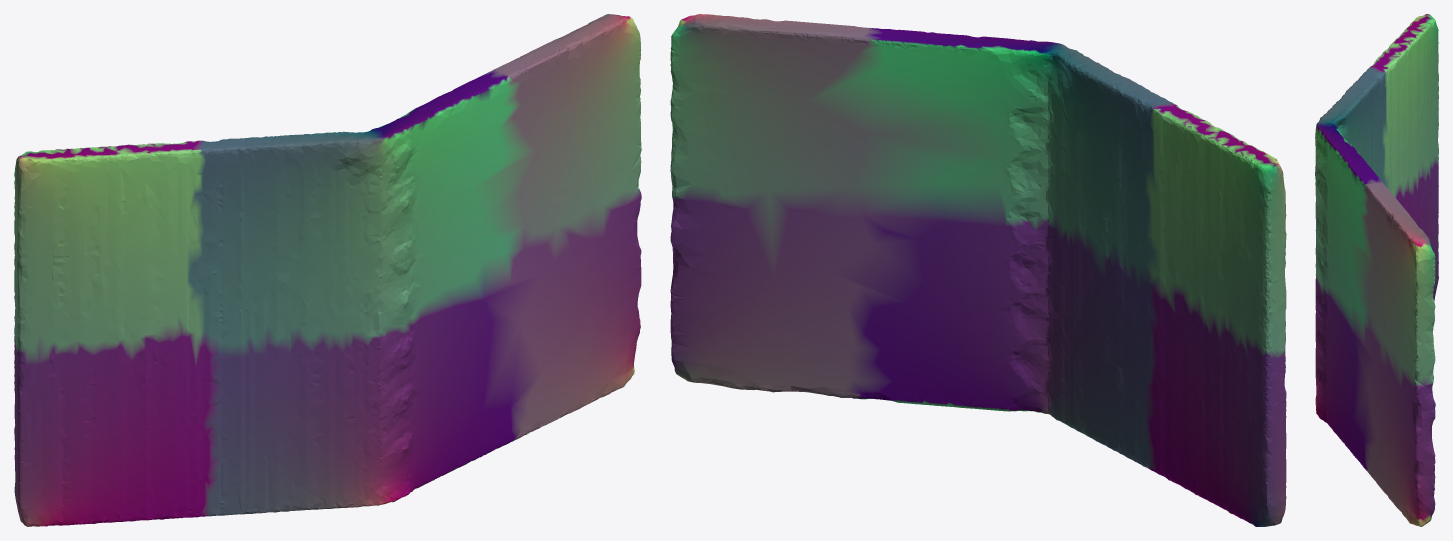
The model's file is paper-11.off.obj.
3 views of the same model, side by side, from view 1: azimuth 30°, elevation 25°; view 2: azimuth 150°, elevation 25°; view 3: azimuth 270°, elevation 25° (orthographic). The views are drawn at different scales.
Size of the model in its own units: 1.57 by 0.8922 by 0.3494.
